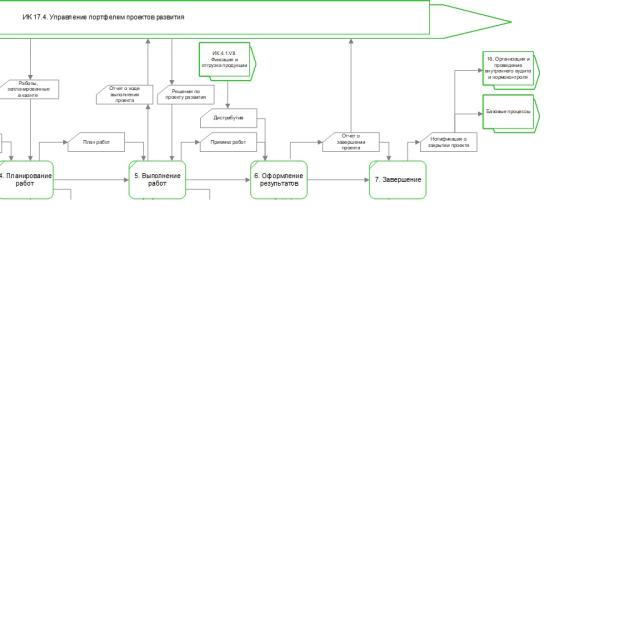arrow: (453, 67, 483, 132), (288, 139, 322, 160), (453, 110, 483, 132), (38, 139, 67, 161), (53, 176, 129, 184), (348, 39, 354, 132), (257, 117, 269, 161), (26, 99, 34, 161), (308, 176, 369, 184), (179, 138, 200, 160), (144, 104, 152, 160), (186, 176, 250, 183), (125, 140, 146, 161), (168, 105, 175, 160), (168, 39, 176, 84), (406, 139, 420, 160), (27, 38, 34, 79), (145, 38, 151, 85), (2, 140, 15, 161), (257, 140, 269, 161), (380, 139, 391, 161), (224, 80, 231, 109)
rectangle: (250, 160, 308, 199), (370, 160, 426, 199), (129, 161, 186, 199), (0, 161, 53, 199), (483, 50, 534, 86), (483, 94, 534, 129), (198, 42, 250, 76), (0, 79, 59, 99), (156, 84, 215, 104), (200, 132, 257, 152), (420, 132, 477, 152), (323, 132, 379, 152), (97, 84, 153, 104), (68, 132, 124, 152), (200, 109, 257, 128)
